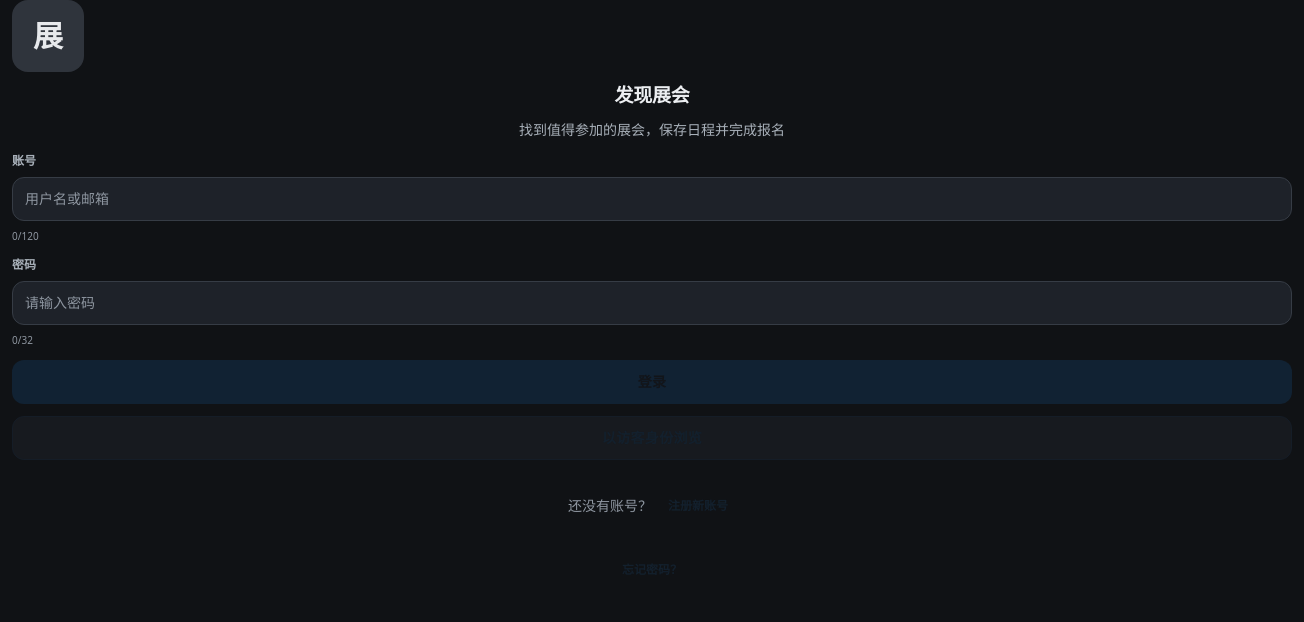
Test: 入口身份初始化 › 新身份启动数据失败时留在入口显示错误
This screenshot has width=1304, height=622.
In the field with id "login-account": (652, 199) [12,177,1292,221], type "b"
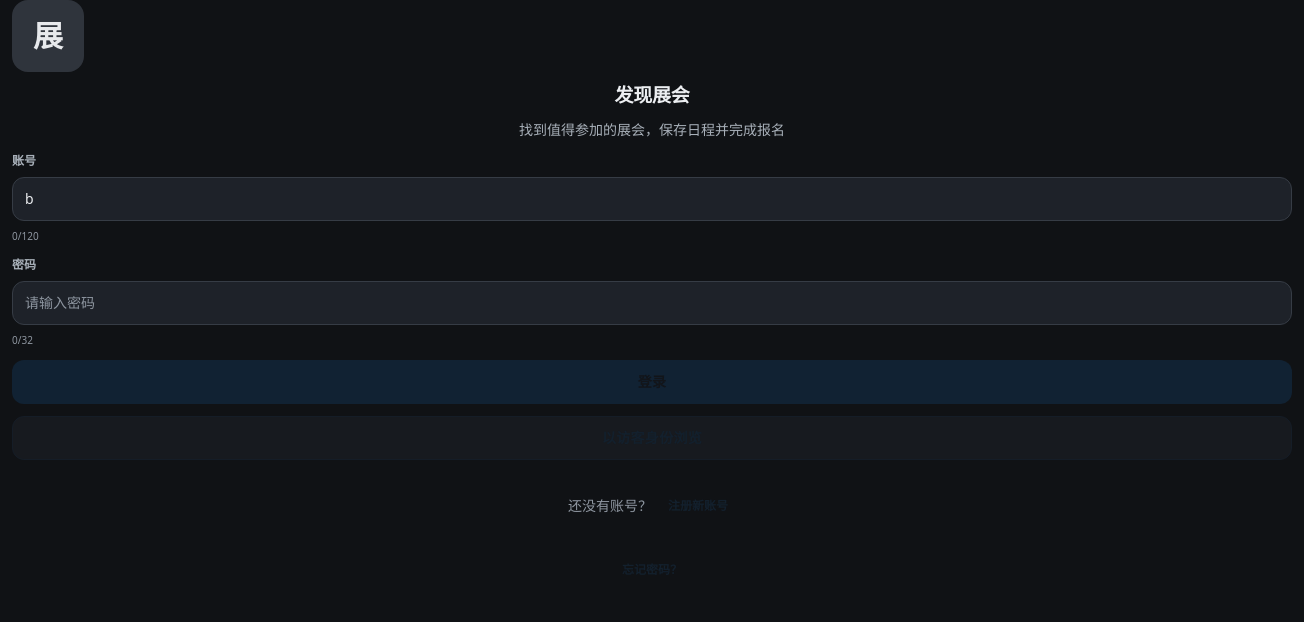
In the password field with id "login-password": (652, 303) [12,281,1292,325], type "password"
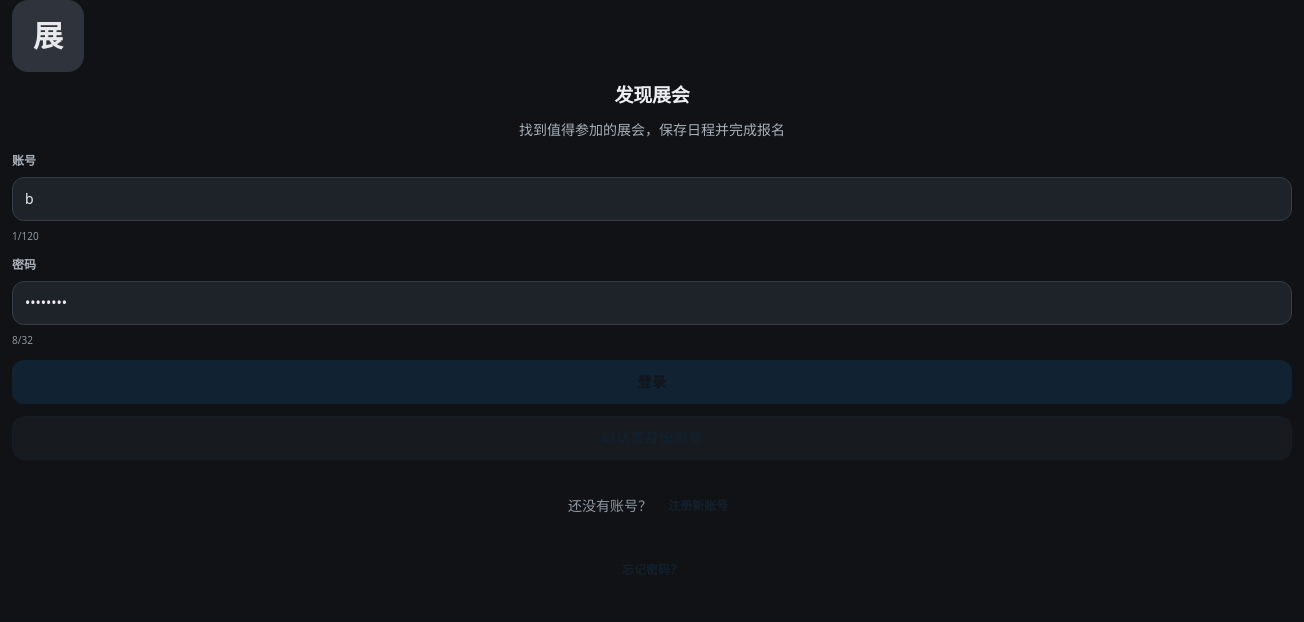
Submit the form, box [12,152,1292,460]
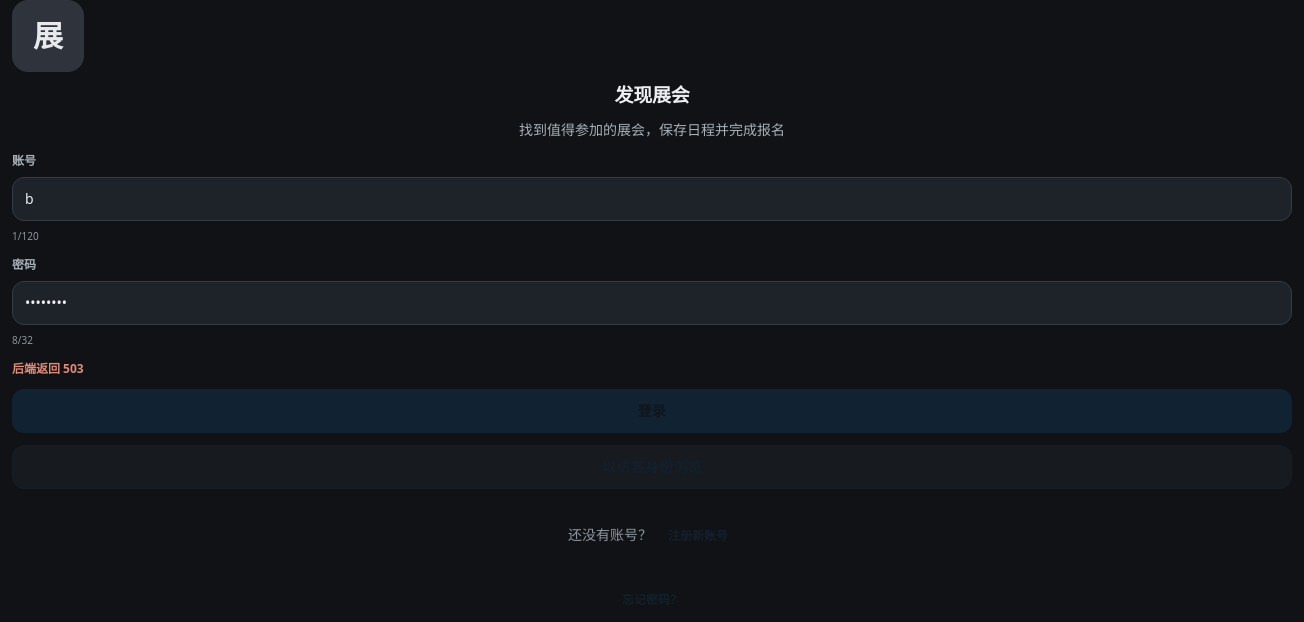
expect the message "后端返回 503" is shown: met, box [12,360,84,377]
